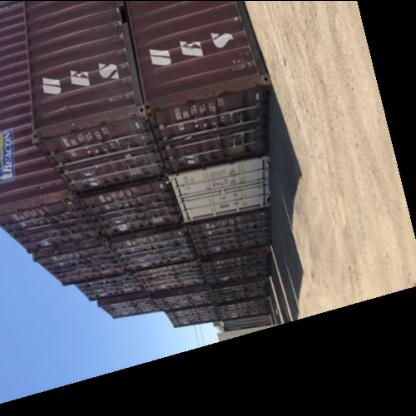Damage: (175, 86, 235, 103)
